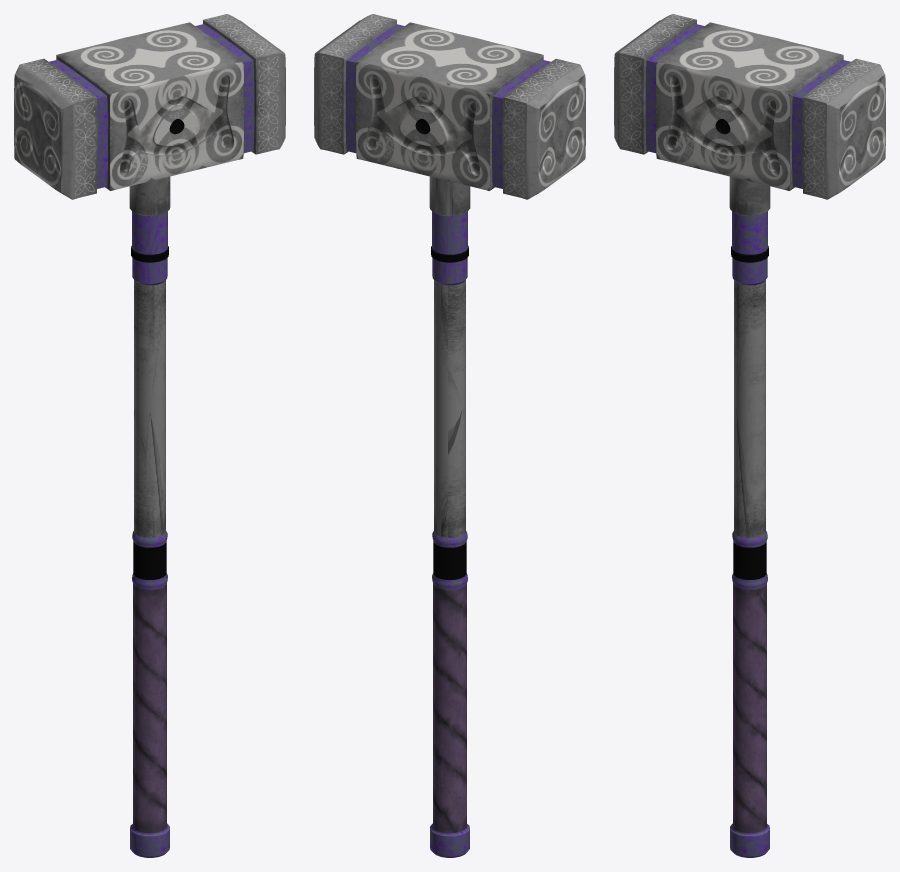
File: mlot_wiezy.glb
3 renders of one model, left to right at view 1: azimuth 30°, elevation 25°; view 2: azimuth 150°, elevation 25°; view 3: azimuth 330°, elevation 25°, orthographic.
Visible parts, largest first — view 1: pCube2; view 2: pCube2; view 3: pCube2.
Boxes of the visible parts, x1,y1,x2,y2 form: pCube2: [14, 14, 285, 857]; pCube2: [314, 14, 585, 857]; pCube2: [614, 14, 885, 857].
Bounding box in the file's own units: 0.489 × 1.65 × 0.2037.
4 materials, 3 textured.
